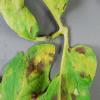Tomato Early blight leaf: (2, 42, 58, 100), (60, 42, 97, 99)
